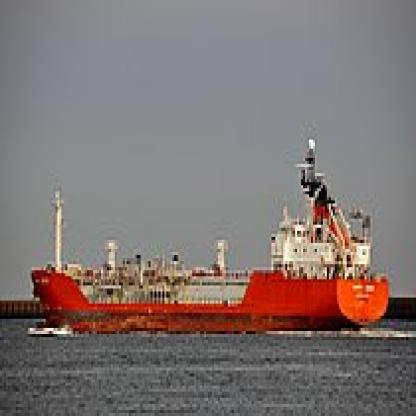Tanker: (36, 204, 384, 343)
